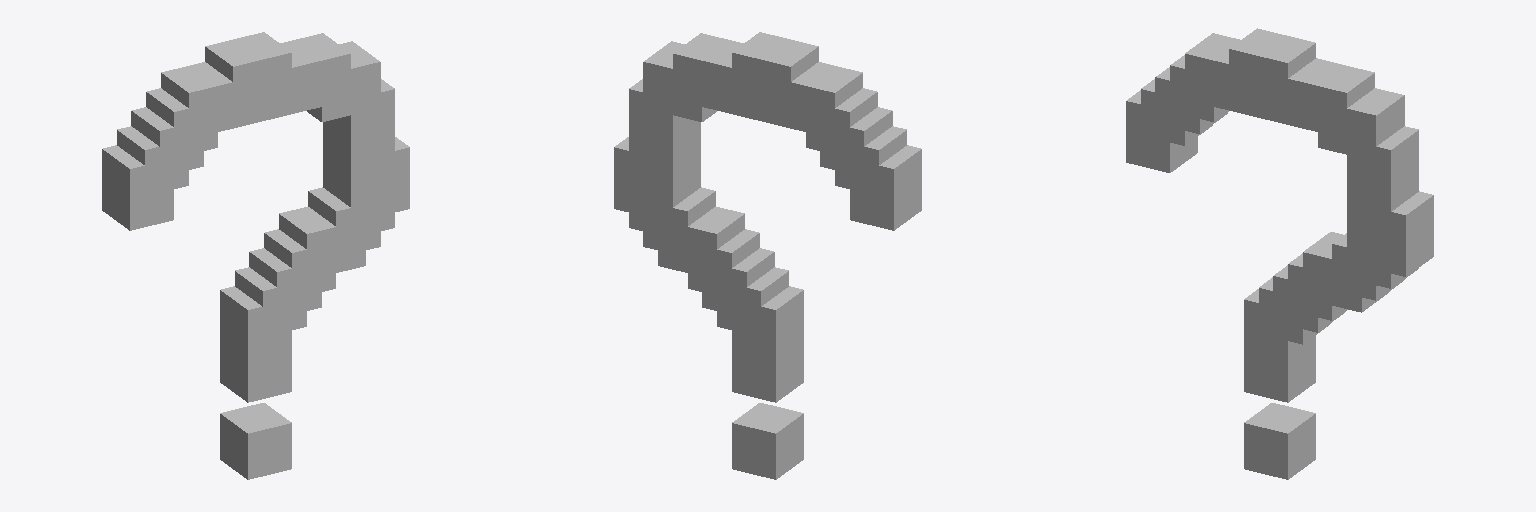
The model's file is gem_crazy.obj.
The picture shows the model from 3 angles: view 1: azimuth 30°, elevation 25°; view 2: azimuth 150°, elevation 25°; view 3: azimuth 330°, elevation 25°; orthographic projection.
Parts seen in each view (by area): view 1: Plane.001; view 2: Plane.001; view 3: Plane.001.
Part boxes in pixels (bbox=[...]): Plane.001: bbox=[102, 32, 409, 479]; Plane.001: bbox=[614, 32, 921, 479]; Plane.001: bbox=[1126, 28, 1433, 479].
Bounding box in the file's own units: 0.703 × 1 × 0.122.